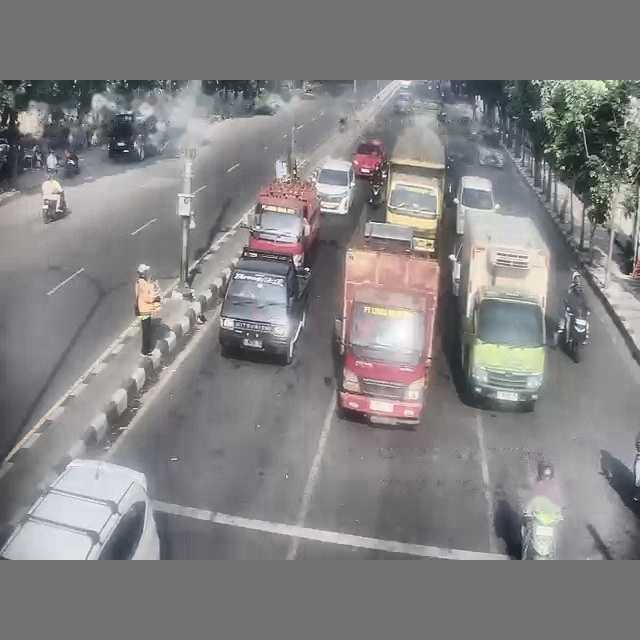Mobil: (0, 459, 159, 559), (219, 247, 309, 363), (108, 112, 167, 160), (453, 175, 499, 234), (312, 159, 355, 214), (352, 139, 386, 177), (478, 145, 503, 168), (253, 96, 279, 115), (393, 92, 412, 114)
Motor: (554, 306, 589, 363), (522, 512, 561, 559), (41, 193, 67, 224), (369, 183, 381, 208)
Truk: (335, 222, 439, 424), (449, 212, 549, 409), (385, 124, 446, 256), (248, 177, 320, 270)
